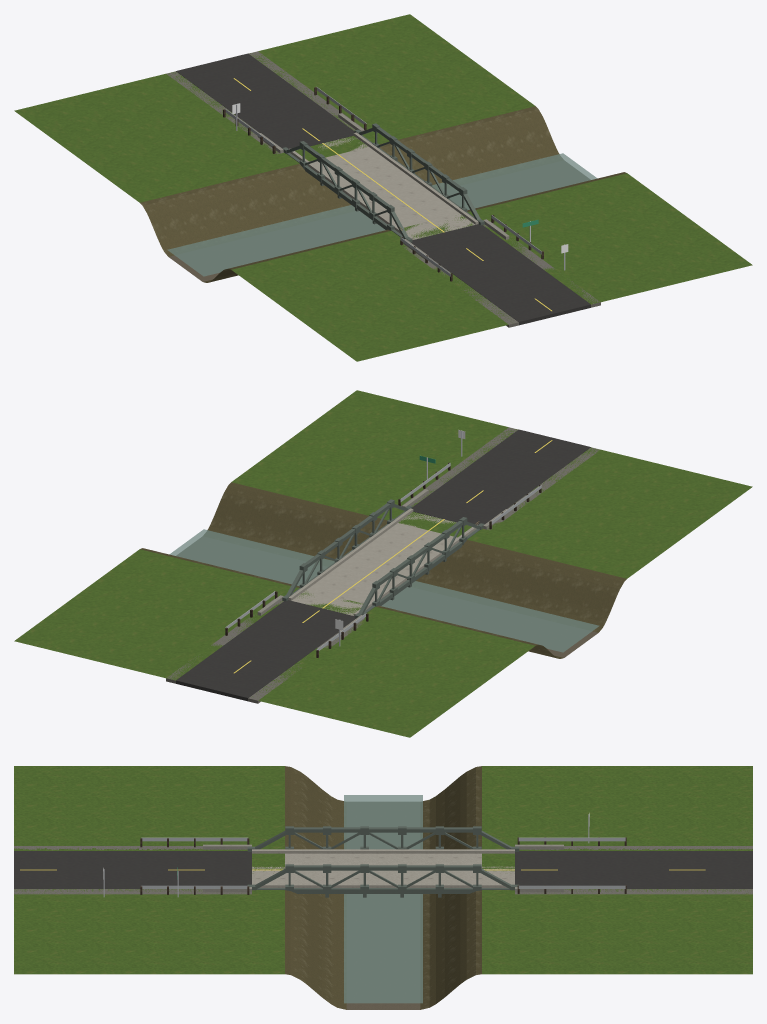
The picture shows the model from 3 angles, top to bottom: view 1: azimuth 30°, elevation 25°; view 2: azimuth 150°, elevation 25°; view 3: azimuth 270°, elevation 25°; orthographic projection. The views are drawn at different scales.
Visible parts, largest first — view 1: terrain-col, water, truss-col, road_N-col, road_S-col; view 2: terrain-col, truss-col, water, road_S-col, road_N-col; view 3: terrain-col, truss-col, water, road_N-col, road_S-col, gr_w_-1-col, gr_w_1-col, gr_e_-1-col, gr_e_1-col, abutment_N-col, abutment_S-col, road_marks.
Boxes of the visible parts, box(x1,y1,x2,y2) form: terrain-col: box(14, 14, 752, 361); water: box(167, 153, 597, 276); truss-col: box(282, 123, 484, 242); road_N-col: box(166, 51, 363, 154); road_S-col: box(404, 221, 600, 327); terrain-col: box(14, 390, 752, 737); truss-col: box(282, 499, 484, 618); water: box(169, 529, 599, 652); road_S-col: box(401, 427, 600, 530); road_N-col: box(166, 599, 364, 703); terrain-col: box(14, 766, 752, 1009); truss-col: box(247, 826, 519, 897); water: box(344, 795, 422, 1003); road_N-col: box(515, 846, 752, 894); road_S-col: box(14, 846, 251, 894); gr_w_-1-col: box(140, 837, 249, 847); gr_w_1-col: box(517, 837, 626, 845); gr_e_-1-col: box(140, 885, 249, 894); gr_e_1-col: box(517, 885, 626, 893); abutment_N-col: box(515, 844, 563, 892); abutment_S-col: box(203, 844, 251, 892); road_marks: box(20, 869, 705, 870).
Bounding box in the file's own units: 40 × 6.05 × 60.
Materials: 17 (10 with a texture image).
